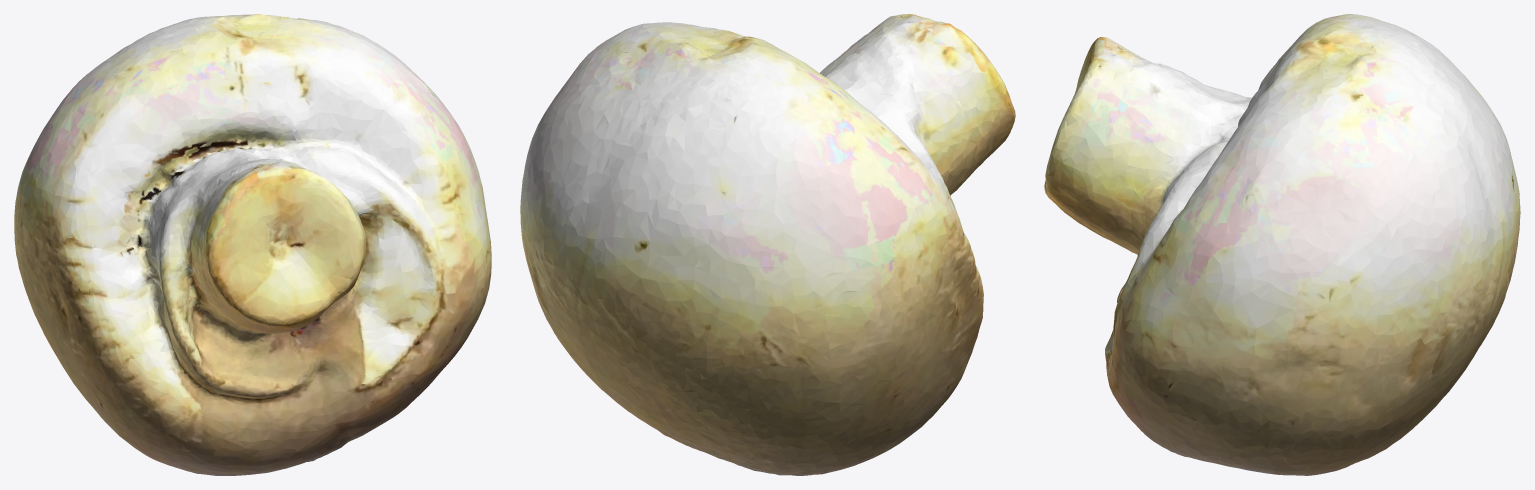
The model's file is Champignon.fbx.
3 views of the same model, side by side, from view 1: azimuth 30°, elevation 25°; view 2: azimuth 150°, elevation 25°; view 3: azimuth 270°, elevation 25° (orthographic). The views are drawn at different scales.
Visible parts, largest first — view 1: Champignon_tex_high; view 2: Champignon_tex_high; view 3: Champignon_tex_high.
Part boxes in pixels (box(x1,y1,x2,y2)): Champignon_tex_high: box(14, 14, 491, 475); Champignon_tex_high: box(520, 14, 1015, 475); Champignon_tex_high: box(1044, 14, 1520, 475).
Bounding box in the file's own units: 5.38 × 5.08 × 5.24.
